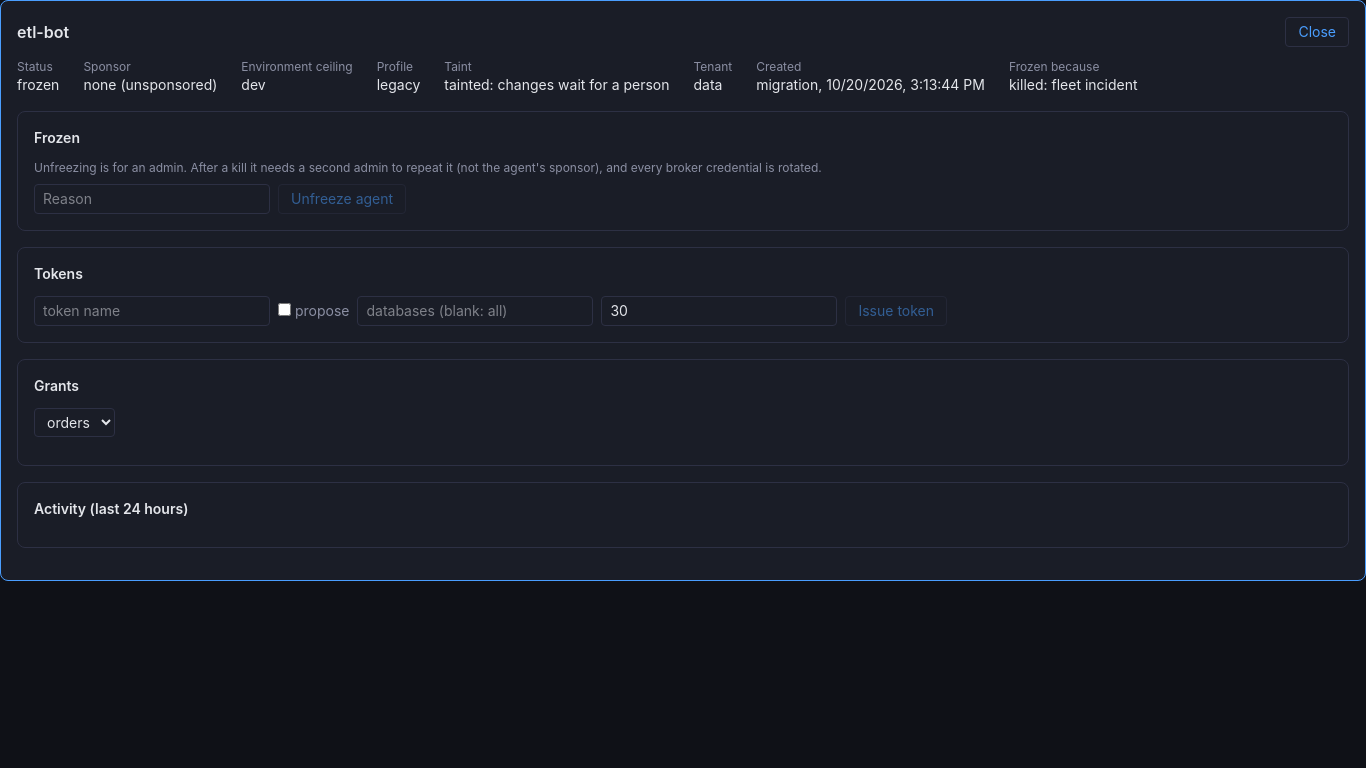
it: AgentDetail freeze and unfreeze › says a second admin is needed after a kill and shows the pending request
Expected: the text "frozen" is shown, 17,75 -> 59,95
Expected: the text with test id "agent-unfreeze-note" shows "second admin", 34,160 -> 822,175
Type "incident closed" into the field with test id "agent-unfreeze-reason".
click(152, 199); type("incident closed")  # box 34,184 -> 270,214
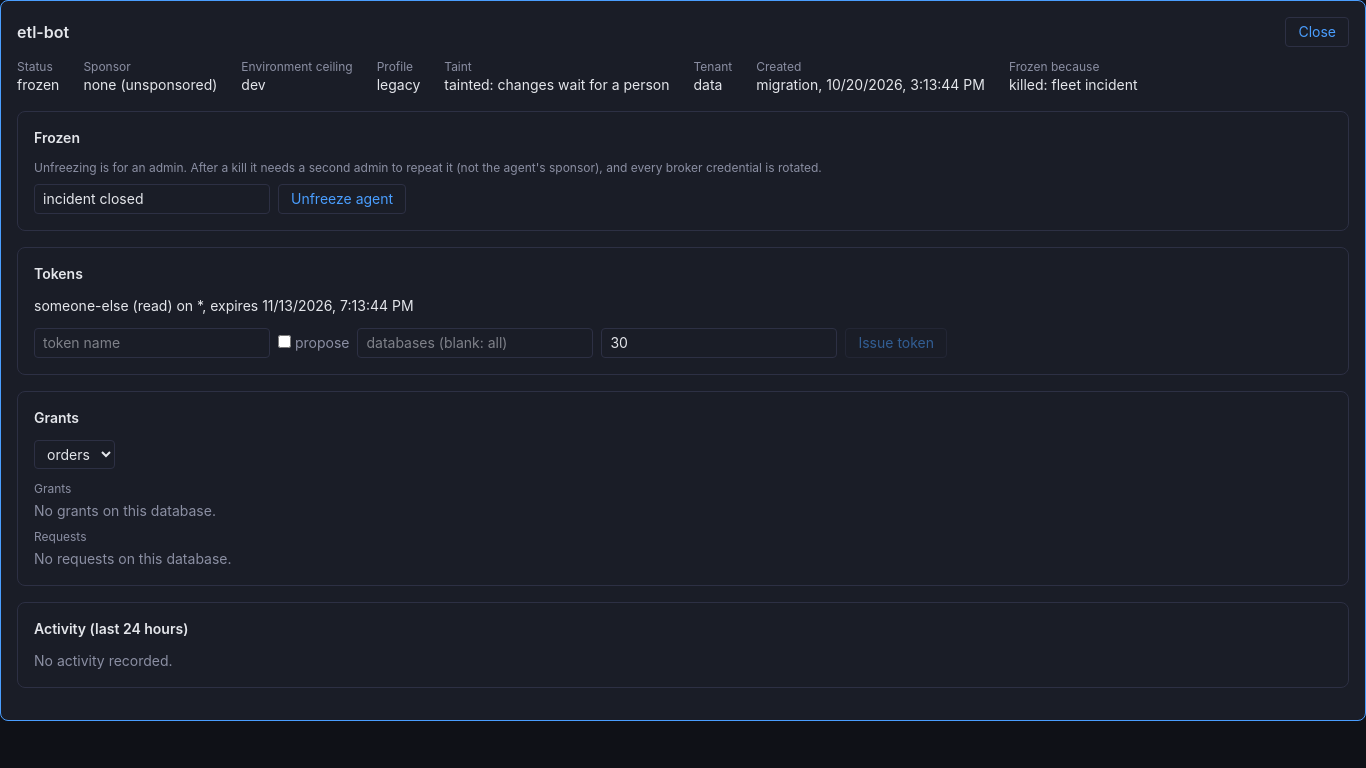
Click the button with test id "agent-unfreeze".
click(342, 199)  # box 278,184 -> 406,214
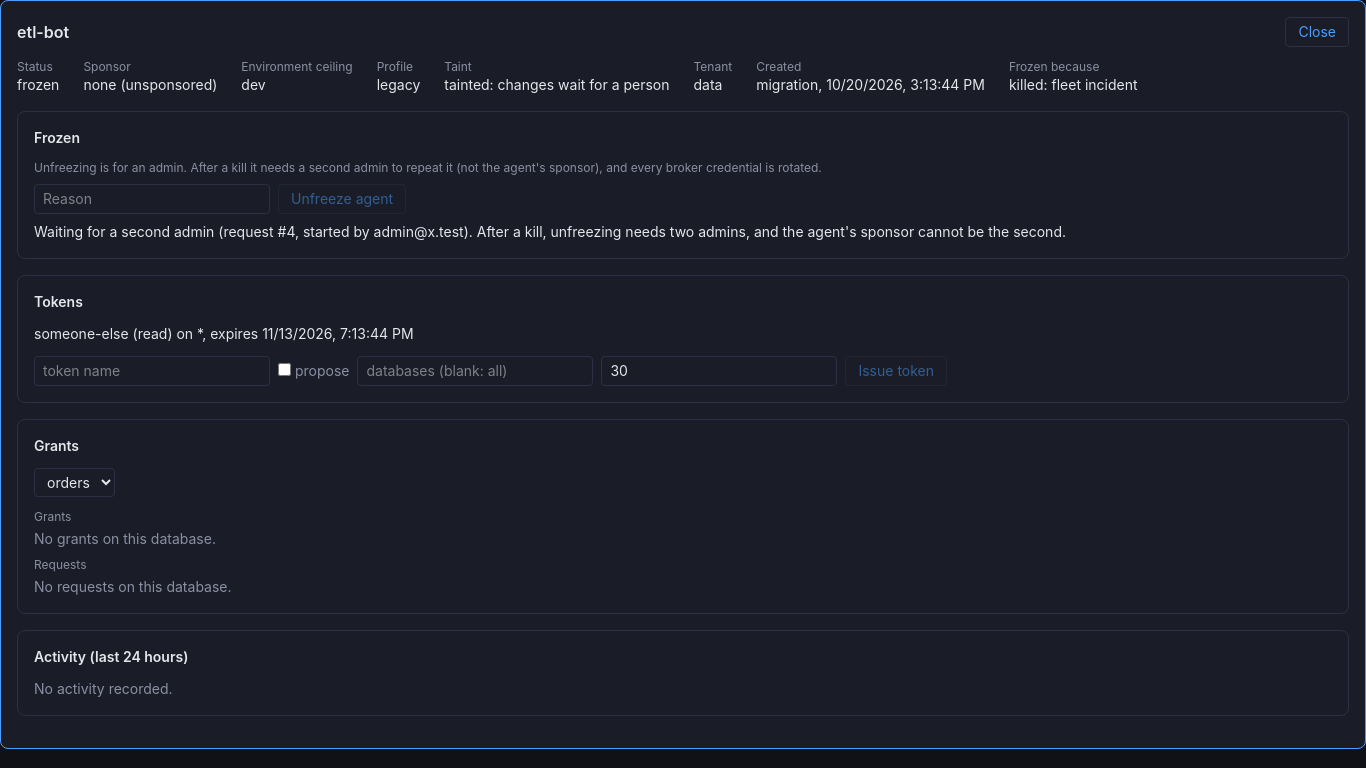
Expected: the text with test id "agent-unfreeze-result" shows "second admin", 34,223 -> 1066,240
